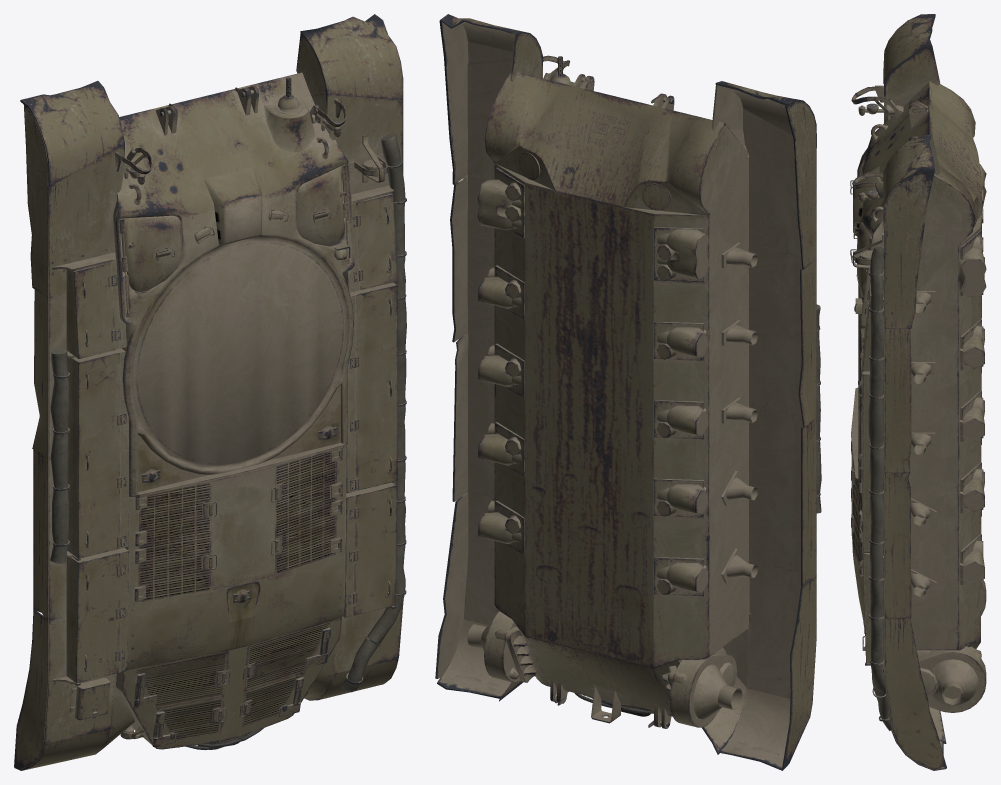
The model's file is Hull.glb.
The picture shows the model from 3 angles, left to right: view 1: azimuth 30°, elevation 25°; view 2: azimuth 150°, elevation 25°; view 3: azimuth 270°, elevation 25°; orthographic projection. The views are drawn at different scales.
Parts seen in each view (by area): view 1: set_0_group_0; view 2: set_0_group_0; view 3: set_0_group_0.
Boxes of the visible parts, x1=… form: set_0_group_0: x1=14, y1=14, x2=406, y2=770; set_0_group_0: x1=435, y1=14, x2=821, y2=770; set_0_group_0: x1=850, y1=14, x2=986, y2=770.
Size of the model in its own units: 3.54 by 6.34 by 1.29.
1 material, 1 textured.
